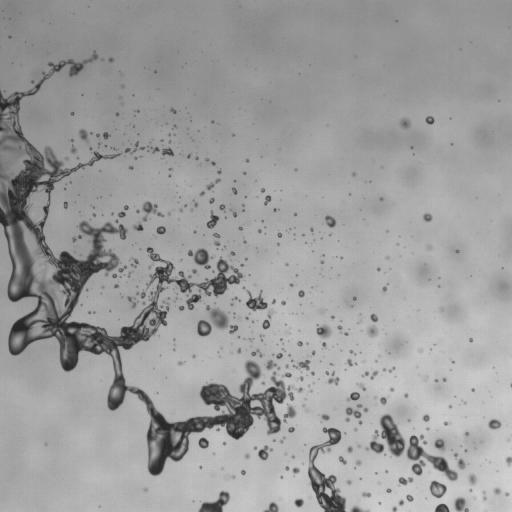droplet: (197, 305, 237, 336), (188, 248, 213, 269), (245, 291, 268, 311), (142, 201, 163, 221), (345, 404, 362, 424), (429, 480, 446, 498), (316, 324, 331, 339), (206, 211, 219, 228), (258, 445, 272, 460), (454, 496, 468, 511), (326, 371, 339, 385), (293, 360, 309, 370), (265, 360, 280, 370), (362, 370, 378, 379), (263, 502, 278, 511), (325, 215, 336, 227), (488, 419, 501, 429), (434, 438, 444, 451), (79, 129, 89, 141), (367, 325, 377, 337), (347, 392, 360, 401), (198, 437, 208, 448), (400, 118, 410, 128), (468, 474, 476, 485), (294, 498, 303, 507), (251, 349, 262, 356), (425, 116, 434, 124), (423, 213, 432, 221), (156, 226, 165, 234), (370, 314, 378, 322), (264, 195, 271, 204), (133, 223, 142, 230), (131, 258, 138, 267), (137, 290, 145, 297), (292, 467, 299, 475), (506, 456, 511, 466), (358, 383, 365, 390), (380, 397, 387, 404), (422, 414, 429, 421), (406, 494, 413, 501), (321, 414, 329, 420), (282, 372, 291, 377), (70, 146, 76, 153), (219, 204, 225, 211), (298, 290, 304, 297), (346, 358, 352, 365), (362, 492, 370, 497), (103, 132, 109, 138), (214, 240, 220, 246), (494, 488, 500, 494), (213, 233, 220, 238), (382, 285, 387, 292), (275, 353, 282, 358), (232, 297, 240, 301), (170, 108, 176, 113), (232, 188, 237, 194), (231, 210, 236, 216), (337, 325, 342, 331), (288, 427, 294, 432), (347, 446, 352, 452), (398, 499, 403, 505), (209, 198, 214, 203), (297, 341, 302, 346), (244, 453, 249, 458), (356, 460, 361, 465), (277, 231, 281, 237), (322, 342, 326, 348), (389, 367, 395, 371), (200, 191, 204, 196), (237, 348, 241, 353), (178, 361, 183, 365), (298, 376, 303, 380), (363, 408, 368, 412), (444, 421, 449, 425), (280, 437, 284, 442), (392, 506, 396, 511), (64, 202, 67, 208), (217, 169, 221, 173), (230, 251, 234, 255), (148, 264, 152, 268), (192, 269, 196, 273), (113, 273, 117, 277), (281, 301, 285, 305), (179, 306, 183, 310), (350, 350, 354, 354), (310, 371, 314, 375), (442, 377, 446, 381), (404, 393, 408, 397), (465, 432, 469, 436), (285, 466, 289, 470), (241, 470, 245, 474), (347, 480, 351, 484), (386, 488, 390, 492), (108, 58, 113, 61), (194, 201, 197, 206), (260, 334, 263, 339), (211, 161, 214, 165), (261, 188, 264, 192), (239, 226, 242, 230), (127, 273, 131, 276), (272, 300, 275, 304), (469, 338, 472, 342), (390, 387, 393, 391), (505, 492, 508, 496), (187, 154, 190, 157), (129, 166, 132, 169), (258, 229, 261, 232), (115, 284, 118, 287), (331, 315, 334, 318), (357, 320, 360, 323), (312, 351, 315, 354), (424, 376, 427, 379), (262, 381, 265, 384), (354, 428, 357, 431), (253, 446, 256, 449), (246, 158, 248, 162), (419, 348, 421, 352), (71, 112, 73, 115), (96, 134, 99, 136), (206, 158, 208, 161), (352, 173, 355, 175), (380, 197, 382, 200), (136, 210, 139, 212), (310, 228, 313, 230), (428, 246, 430, 249), (386, 256, 388, 259), (321, 260, 323, 263), (377, 268, 380, 270), (290, 283, 292, 286), (353, 297, 356, 299), (230, 303, 233, 305), (345, 332, 347, 335), (250, 339, 253, 341), (192, 355, 195, 357), (285, 365, 288, 367), (383, 368, 385, 371), (435, 379, 437, 382), (374, 396, 376, 399), (358, 444, 360, 447), (232, 475, 234, 478), (144, 488, 146, 491), (31, 81, 33, 83), (116, 113, 118, 115), (174, 125, 176, 127), (196, 157, 198, 159), (274, 209, 276, 211), (93, 214, 95, 216), (115, 220, 117, 222), (456, 250, 458, 252), (285, 263, 287, 265), (243, 287, 245, 289), (286, 332, 288, 334), (449, 405, 451, 407), (223, 442, 225, 444), (199, 466, 201, 468)
ligament: (0, 52, 302, 475), (367, 414, 457, 481), (309, 427, 347, 511), (198, 491, 229, 511), (262, 308, 275, 329), (125, 142, 145, 154), (150, 147, 173, 156), (454, 453, 466, 469), (206, 178, 219, 190), (117, 205, 128, 217), (434, 503, 450, 511), (398, 477, 413, 485), (349, 505, 369, 511), (127, 296, 136, 308), (339, 456, 346, 464), (482, 491, 486, 499), (510, 383, 511, 386)
